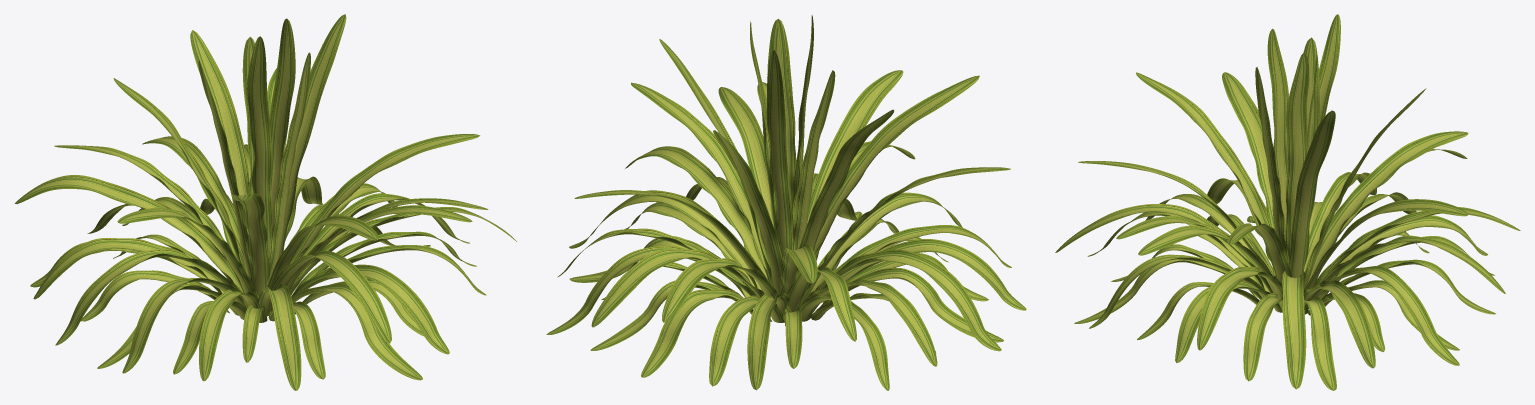
The model's file is flower.gltf.
3 renders of one model, left to right at view 1: azimuth 30°, elevation 25°; view 2: azimuth 150°, elevation 25°; view 3: azimuth 270°, elevation 25°, orthographic. The views are drawn at different scales.
Parts seen in each view (by area): view 1: Phormium_tenax_A001; view 2: Phormium_tenax_A001; view 3: Phormium_tenax_A001.
Part boxes in pixels (x1,y1,x2,y2): Phormium_tenax_A001: (14,14,516,390); Phormium_tenax_A001: (546,15,1026,390); Phormium_tenax_A001: (1055,14,1520,390).
Bounding box in the file's own units: 11.71 × 7.58 × 11.91.
1 material, 1 textured.
